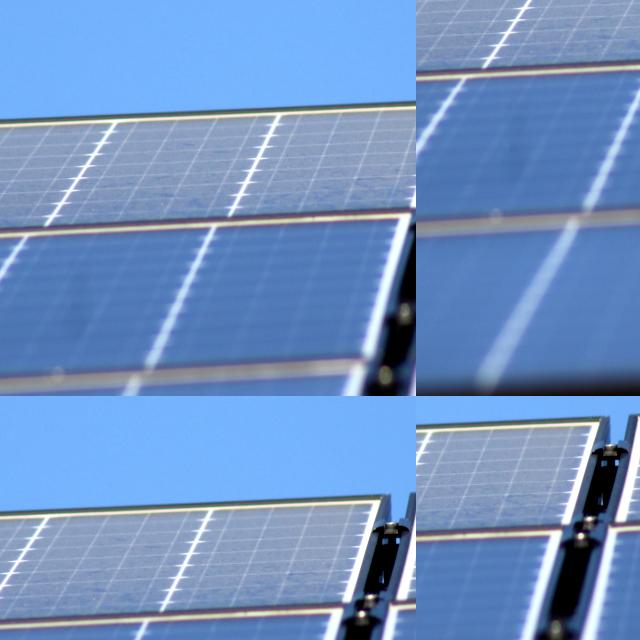bird: (24, 7, 46, 37), (28, 70, 49, 94), (75, 40, 88, 66), (58, 61, 73, 82), (6, 98, 23, 116), (55, 10, 65, 31), (35, 0, 52, 12), (46, 97, 60, 111), (76, 16, 85, 31), (48, 45, 57, 56), (0, 81, 6, 95), (58, 0, 69, 7), (82, 0, 97, 5), (0, 48, 5, 59), (19, 0, 27, 6), (0, 0, 5, 6)
dust: (416, 416, 598, 520), (416, 435, 493, 526), (416, 442, 476, 541)
shadow: (493, 110, 640, 177), (546, 0, 640, 66), (500, 0, 533, 110), (525, 0, 549, 41), (416, 0, 469, 12)
